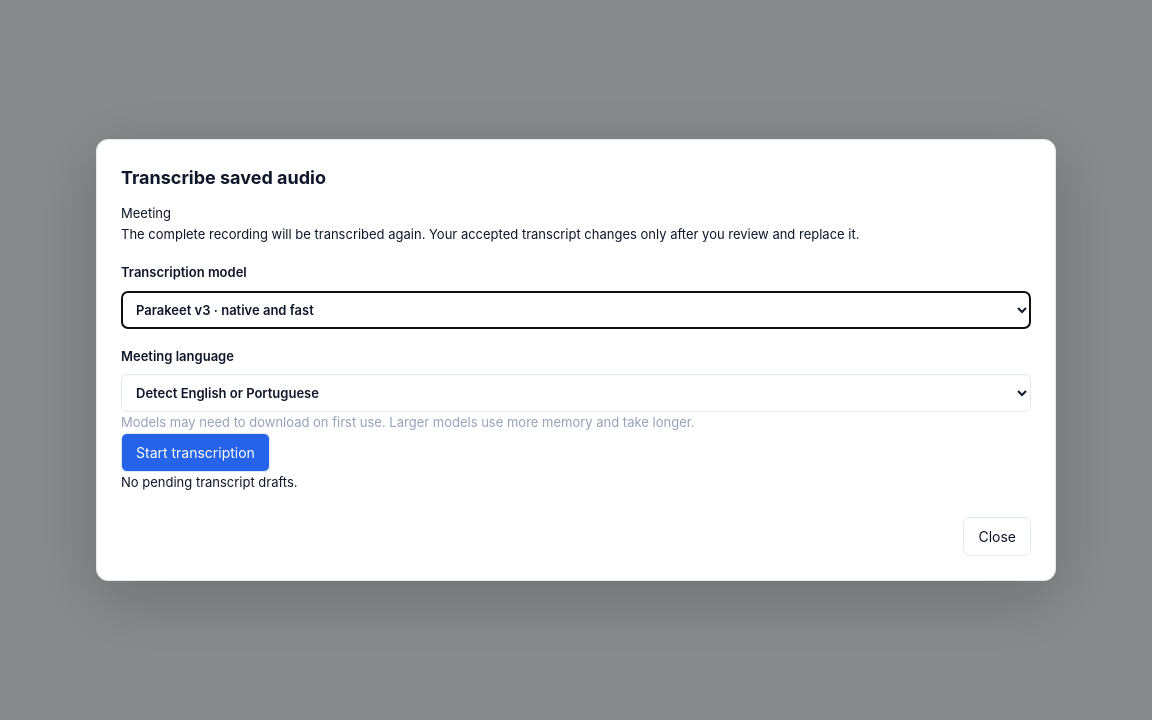
Test: failed stage retains complete draft and retries the same input without another recognition run
The width and height of the screenshot is (1152, 720).
Click the button "Start transcription" at (195, 452), box [121,433,270,472]
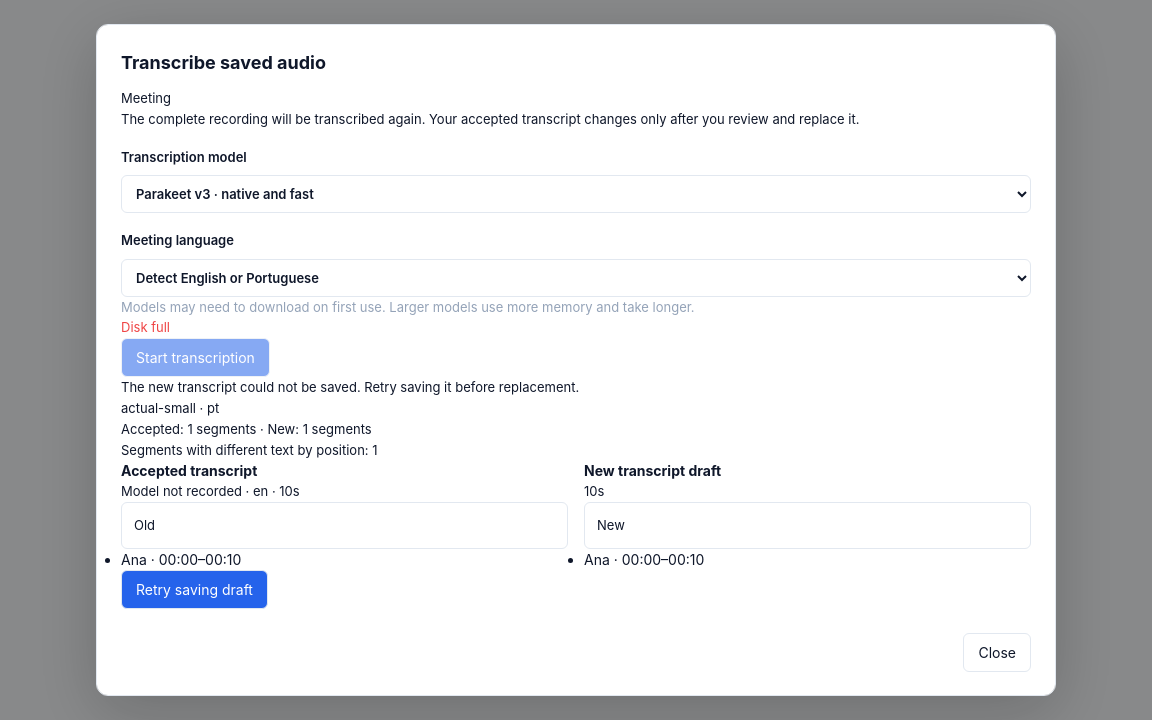
Check: the message reads "Disk full", box [121,319,170,335]
Check: the text "New" is shown, box [584,502,1031,549]
Check: the text "Old" is shown, box [121,502,568,549]
Click the button "Retry saving draft" at (194, 590), box [121,570,268,609]
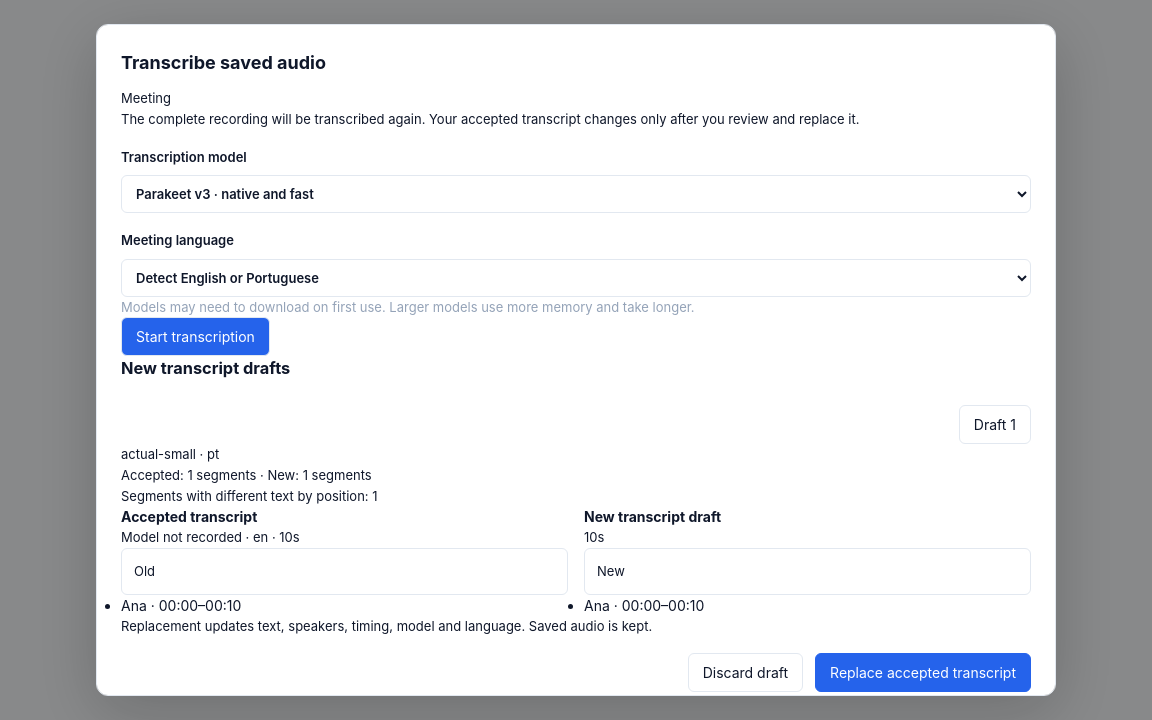
Check: the button "Replace accepted transcript" is shown, box [815,653,1031,692]
